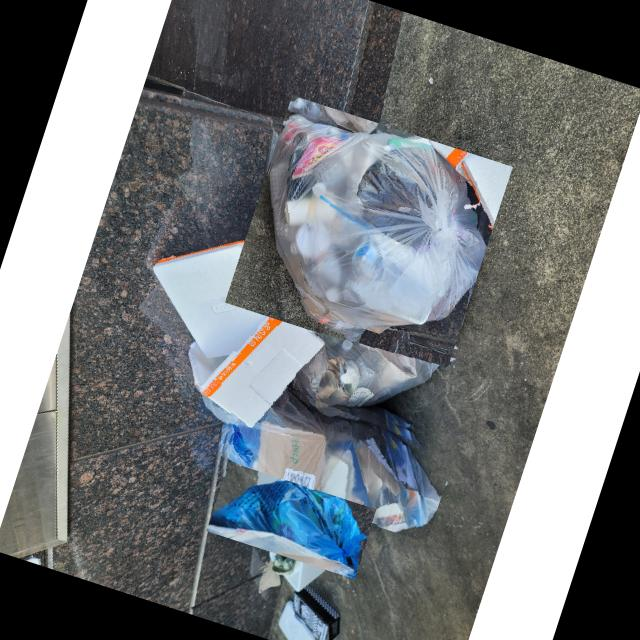other_trashbag: (269, 114, 486, 344), (225, 391, 442, 529), (215, 480, 367, 574), (292, 331, 456, 407)
